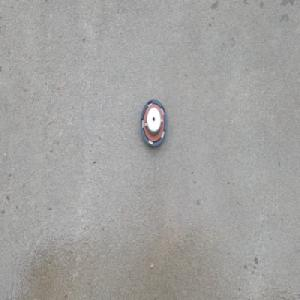FuelCap: (140, 97, 168, 148)
